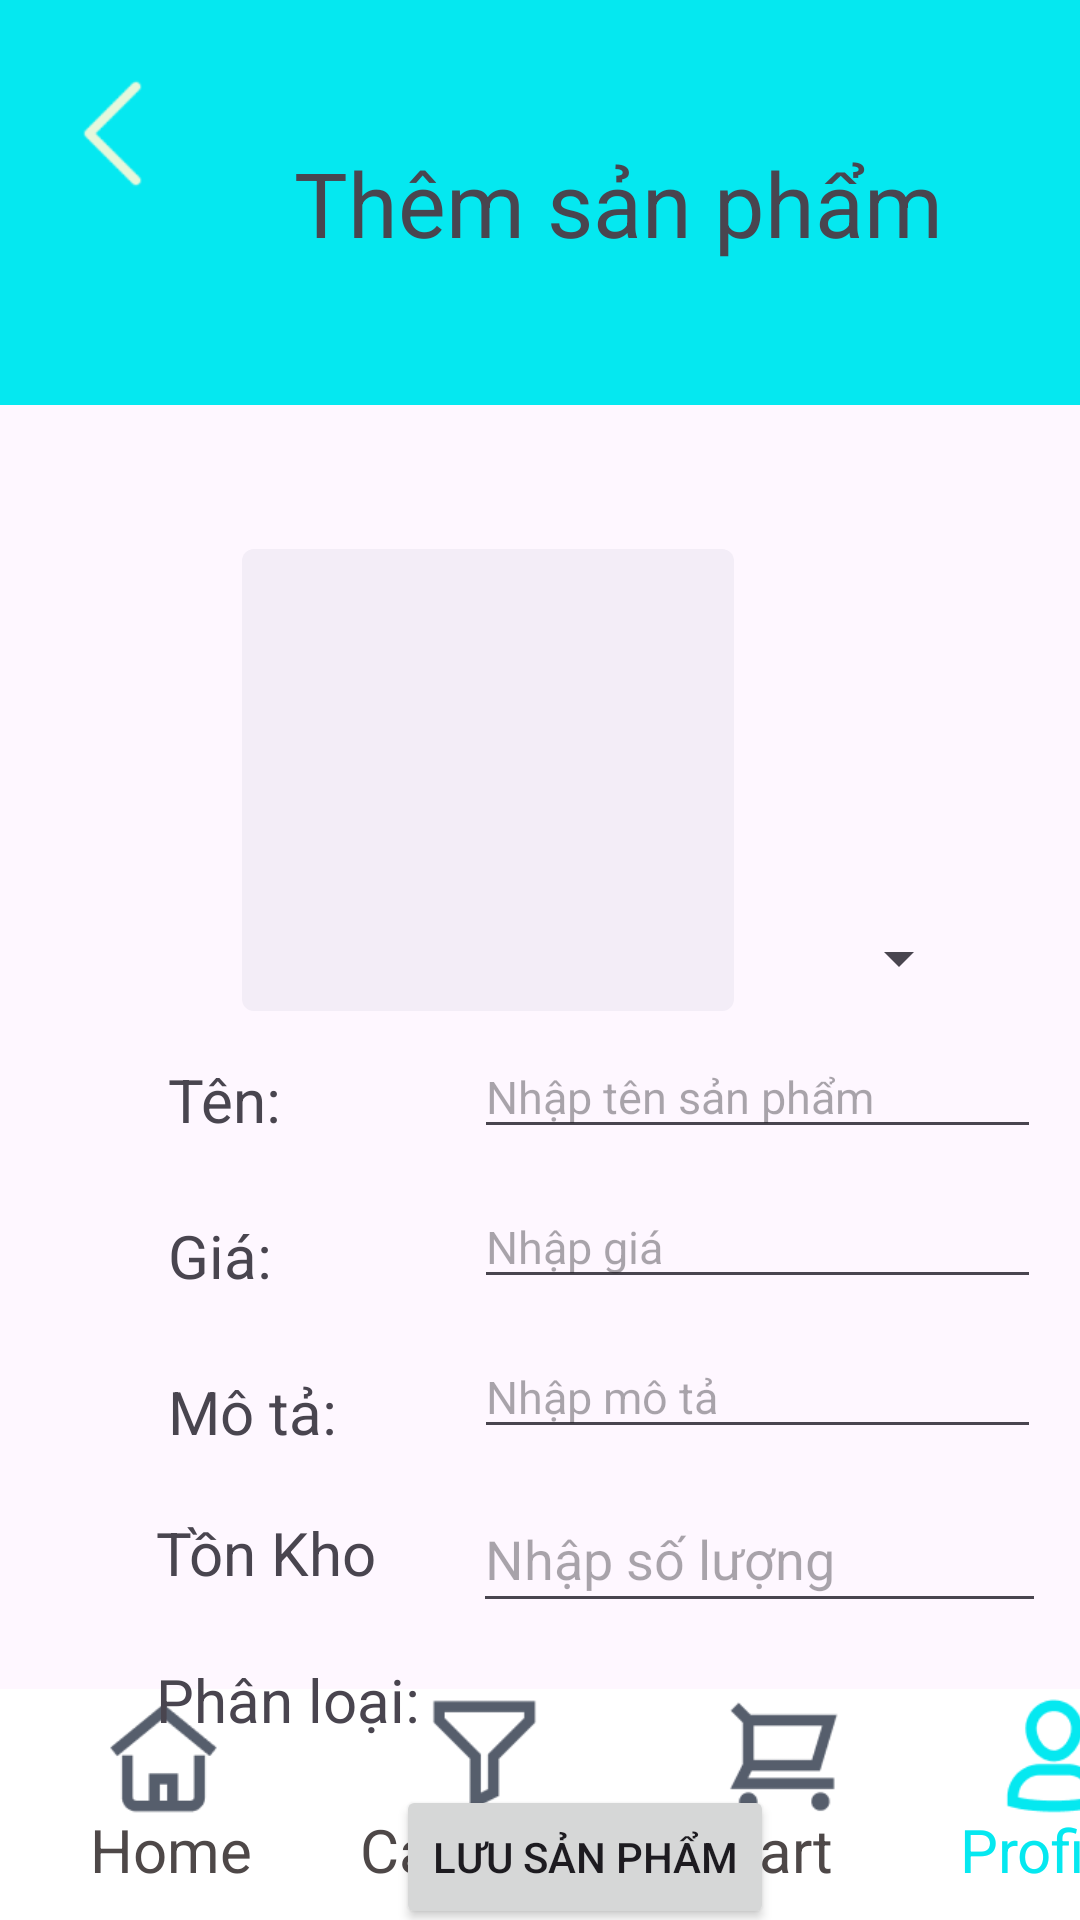

Icons on this 1080px×1920px Android screen, each with the point to tap as [x,y]:
back: [112,133]
